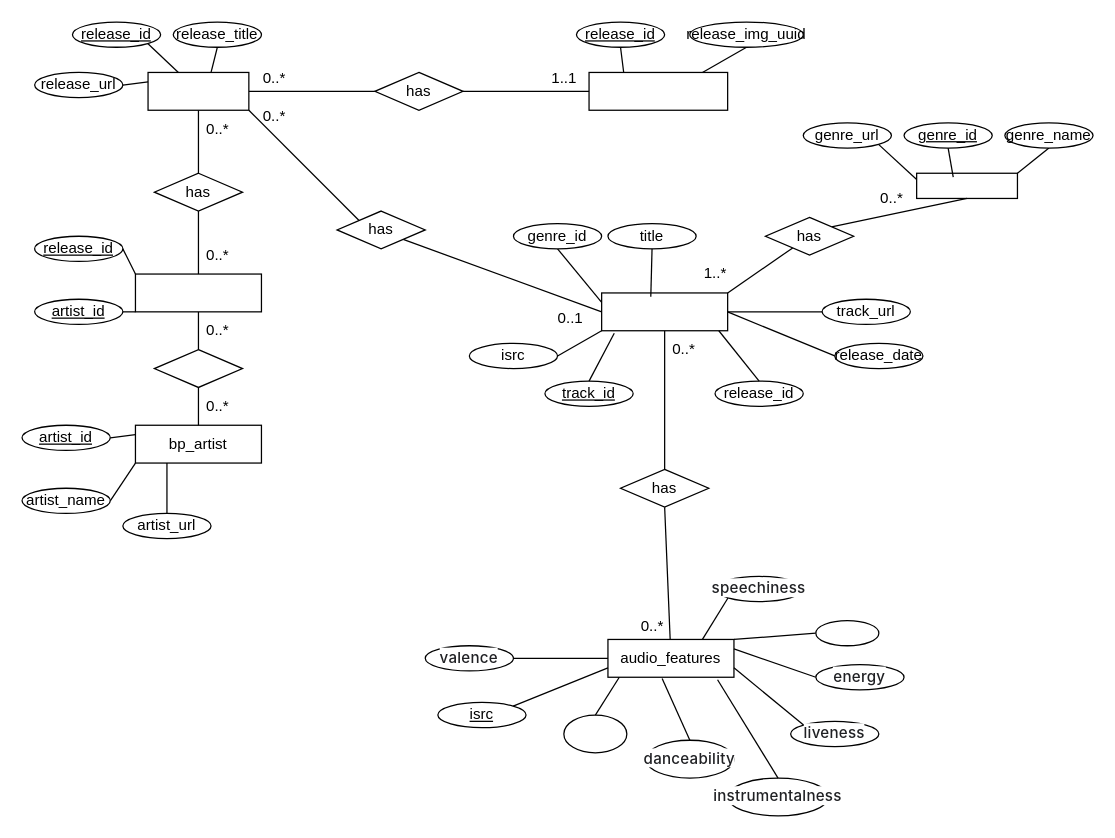
This 1115x838 diagram has some shape labels left out. Each missing label, with the box of its shape:
acousticness: (563, 714, 627, 753)
bp_artist_release: (134, 273, 261, 312)
bp_genre: (915, 172, 1017, 198)
bp_release: (147, 71, 249, 110)
bp_release_media: (588, 71, 728, 110)
bp_track: (600, 292, 728, 331)
loudness: (815, 619, 879, 646)
release: (153, 348, 243, 387)
